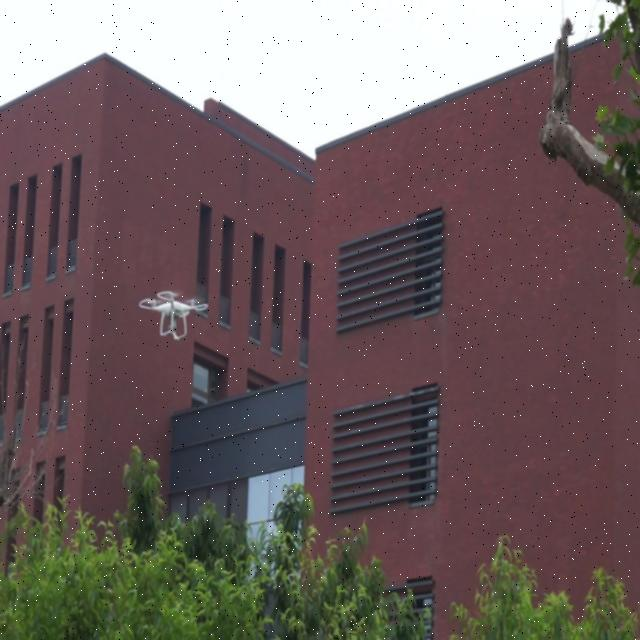UAV: (138, 290, 209, 342)
